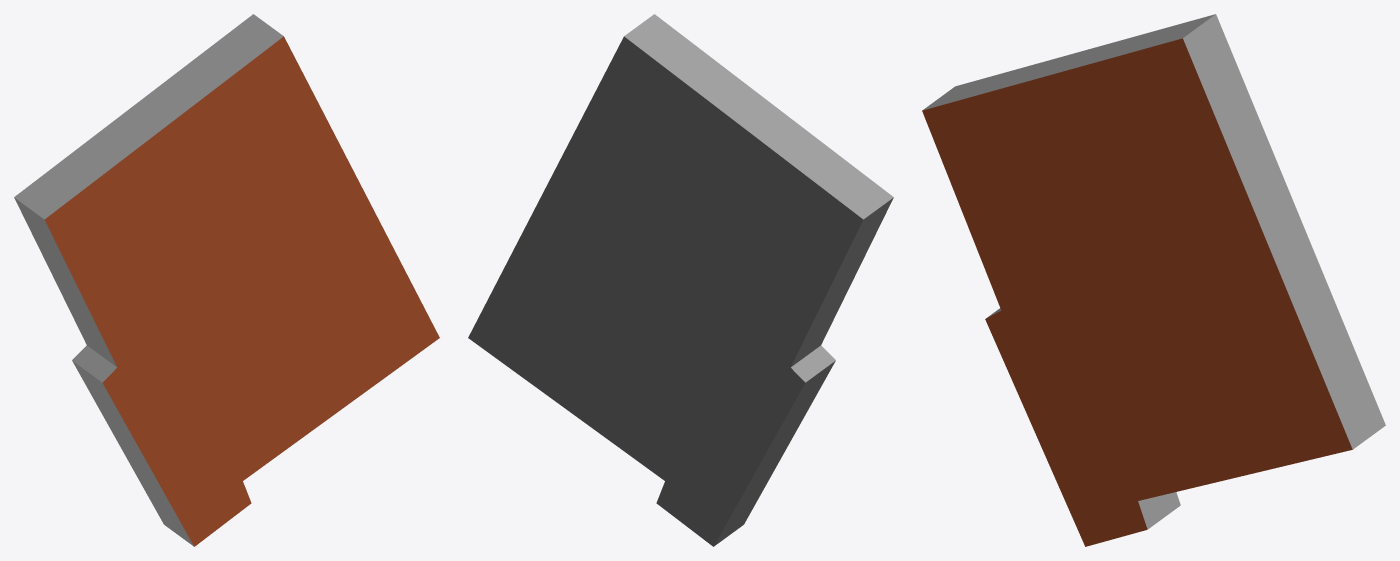
The model's file is construction_6554_assumed_A_Casa_h6m.obj.
3 renders of one model, left to right at view 1: azimuth 30°, elevation 25°; view 2: azimuth 150°, elevation 25°; view 3: azimuth 330°, elevation 25°, orthographic. The views are drawn at different scales.
Parts seen in each view (by area): view 1: construction_6554_assumed_A_Casa; view 2: construction_6554_assumed_A_Casa; view 3: construction_6554_assumed_A_Casa.
Boxes of the visible parts, x1,y1,x2,y2 form: construction_6554_assumed_A_Casa: [14, 14, 439, 546]; construction_6554_assumed_A_Casa: [468, 14, 893, 546]; construction_6554_assumed_A_Casa: [922, 14, 1385, 546].
Bounding box in the file's own units: 44.92 × 53.06 × 6.
